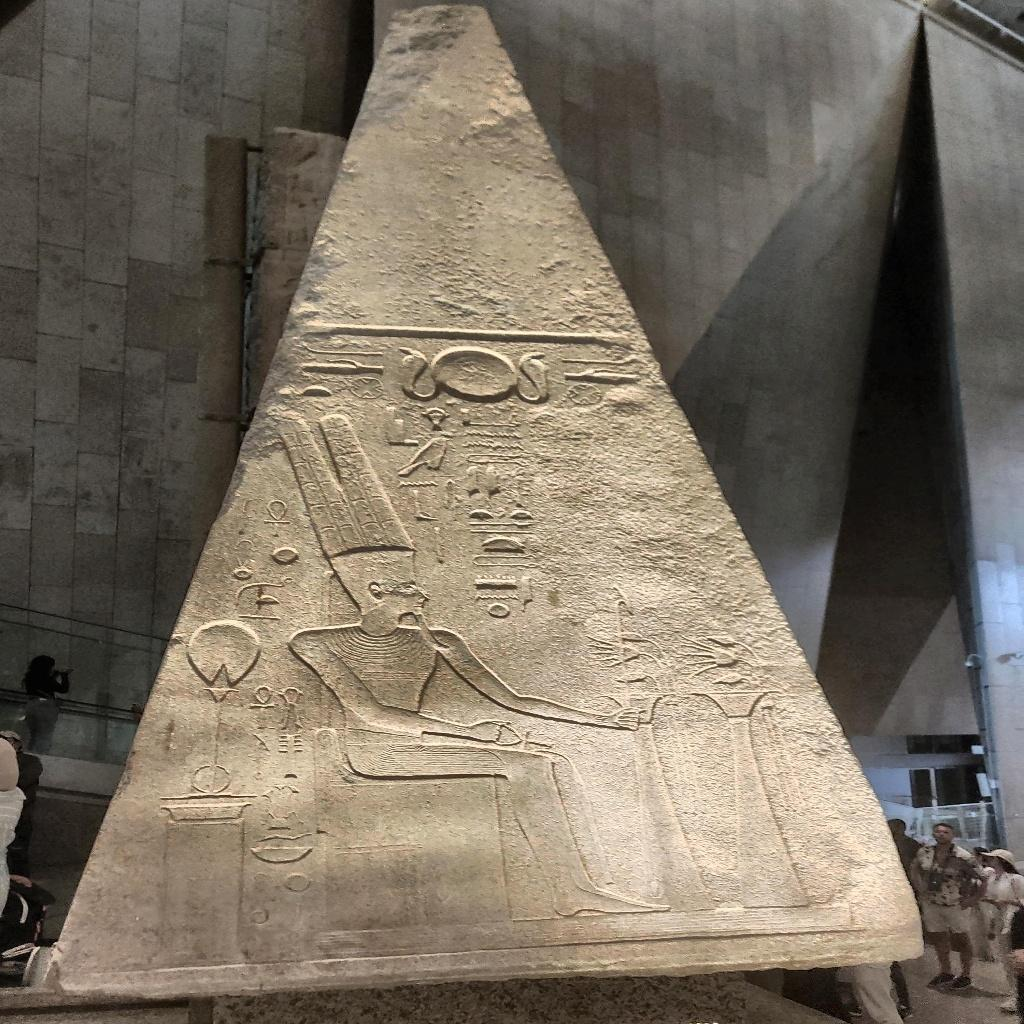Obelsik Tip of Hatshepsut: (68, 12, 922, 986)
